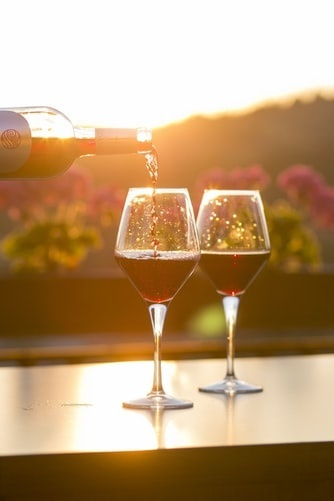whiskey: (120, 188, 214, 412), (191, 188, 274, 391)
